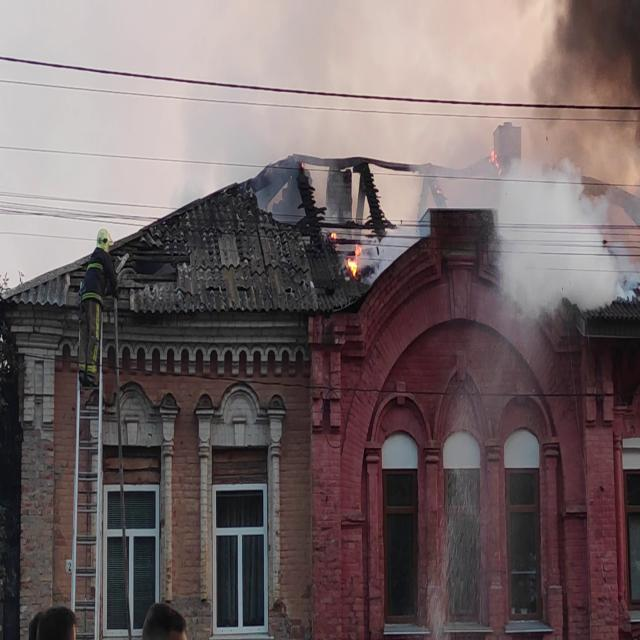smoke: (550, 0, 640, 150), (506, 176, 586, 298)
